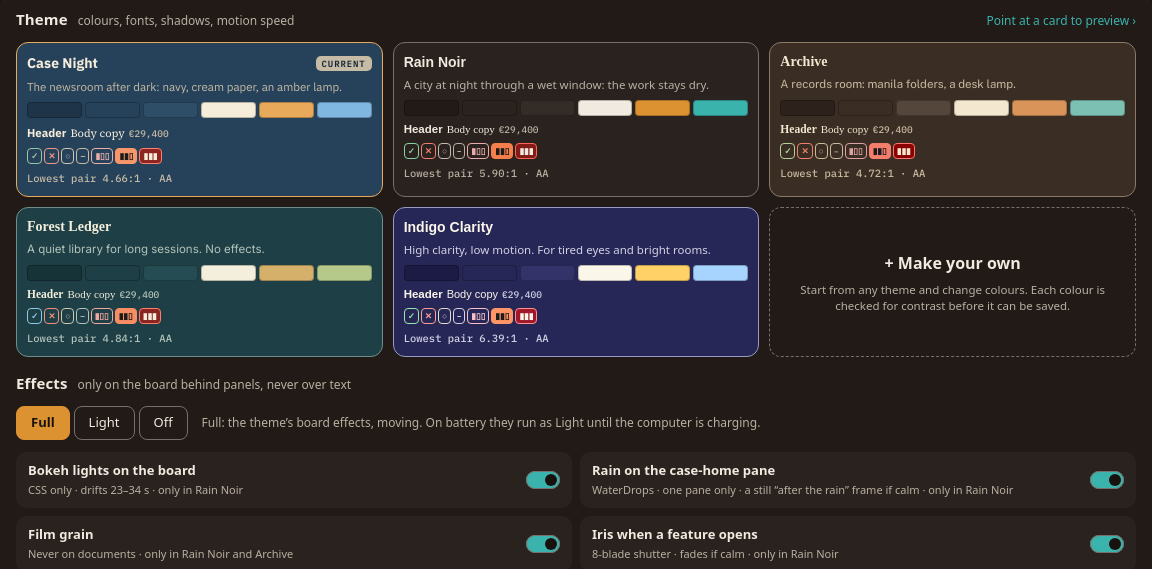
Settings › Appearance › shows the four facts of the theme pointed at
The width and height of the screenshot is (1152, 569).
Hover over the radio button with aria-label "Indigo Clarity theme" at (576, 282), box [393,207,759,357]
(page scrolled)
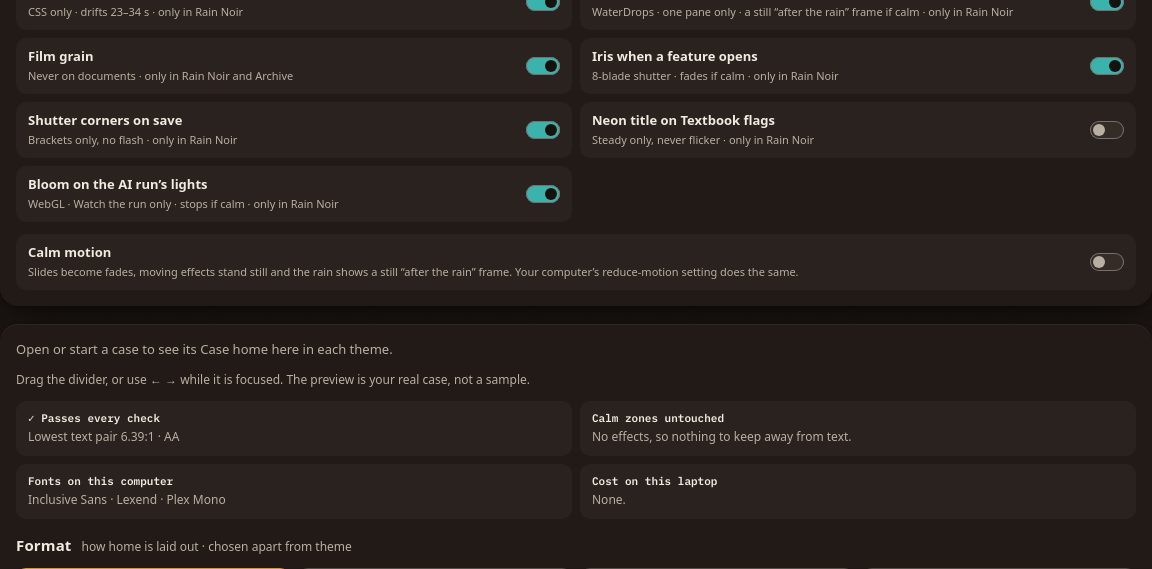
Check: the text "Open or start a case to see its Case home here in each theme." is shown, box [16,340,393,358]
Check: the text "Inclusive Sans · Lexend · Plex Mono" is shown, box [28,491,226,508]
